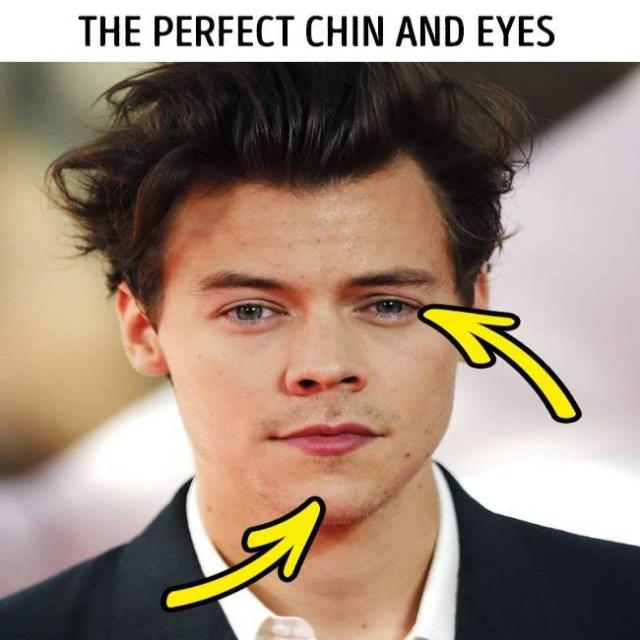front: (172, 239, 472, 518)
